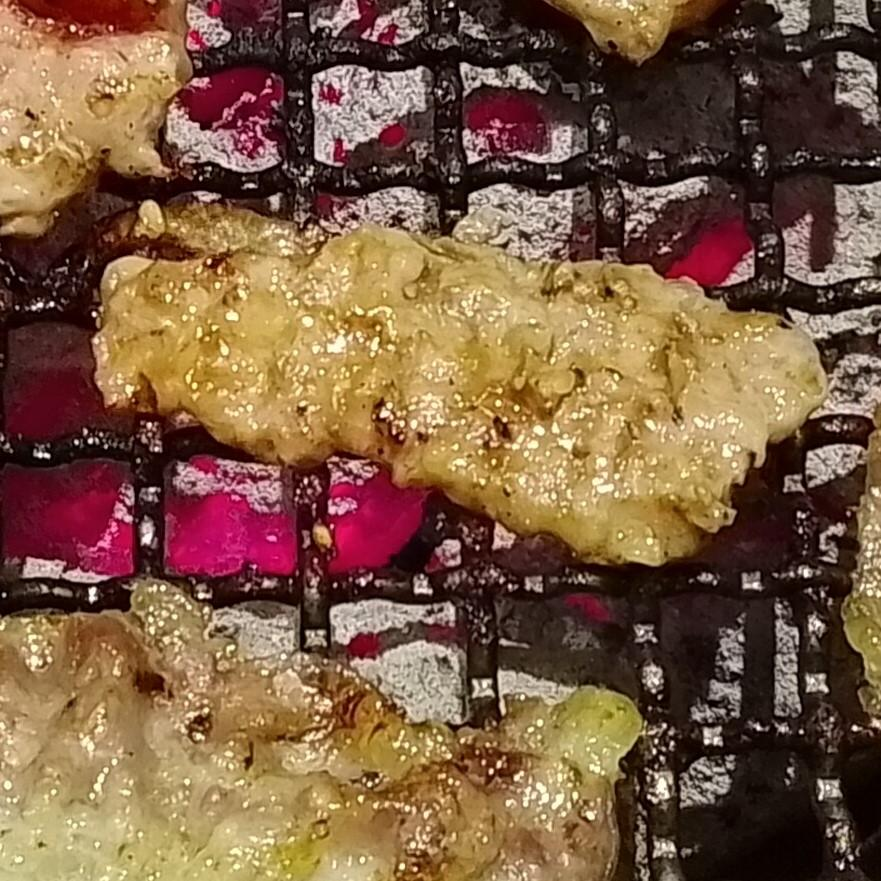Overcooked: (0, 618, 636, 880)
Well-Cooked: (97, 205, 822, 569)
